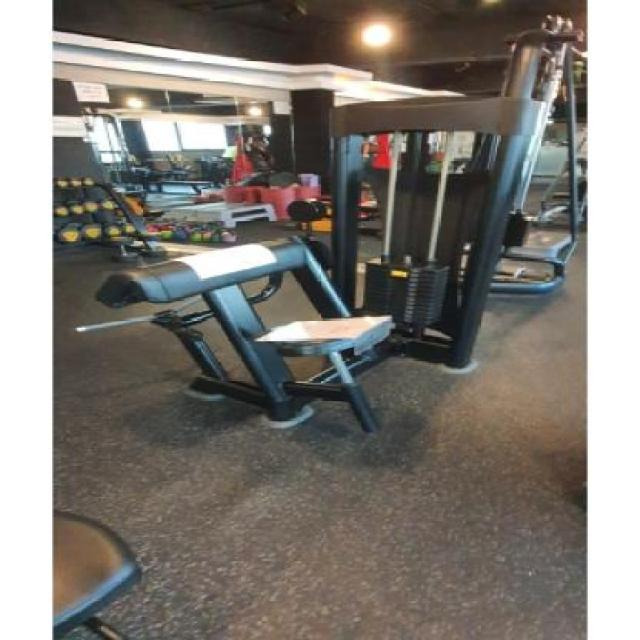arm curl machine: (100, 235, 505, 436)
